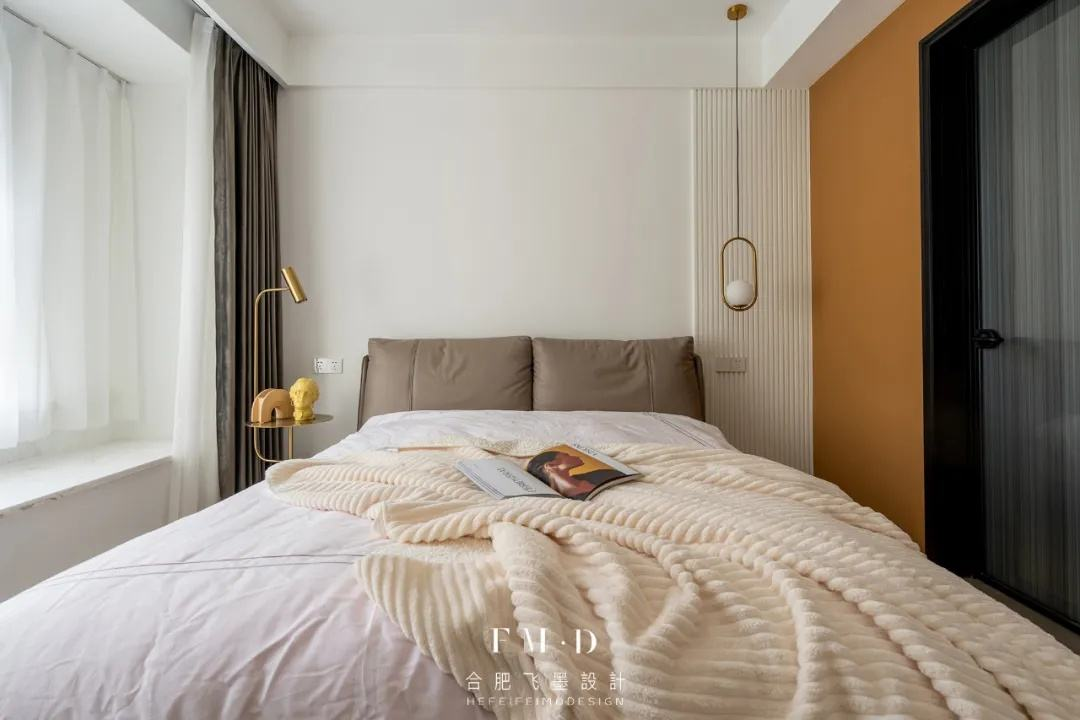床: (0, 421, 1056, 720)
枕头: (359, 326, 710, 410)
灯: (249, 260, 304, 422), (714, 232, 756, 321)
